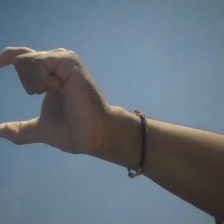G: (1, 40, 108, 164)
